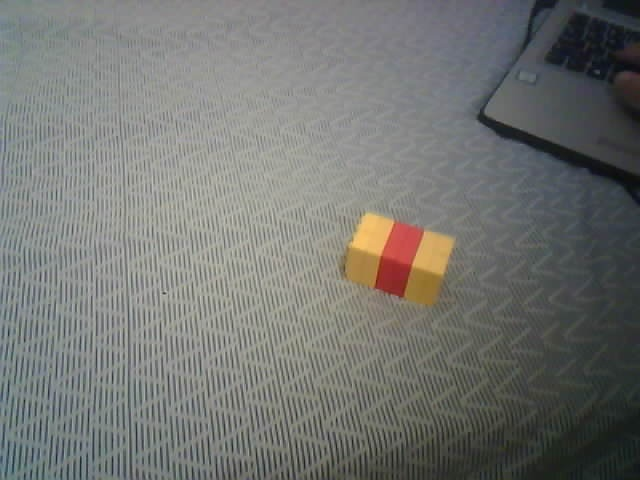lego: (341, 210, 455, 308)
